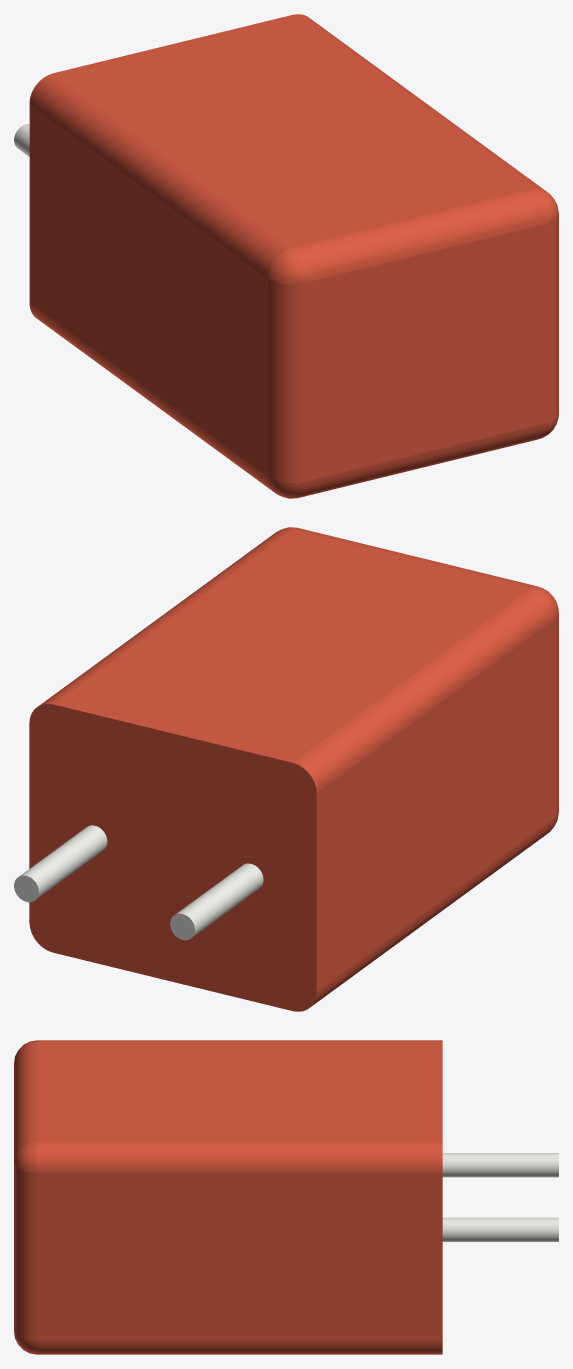
Rendered from C_Rect_L4.6mm_W3.8mm_P2.50mm_MKS02_FKP02.glb.
3 renders of one model, top to bottom at view 1: azimuth 30°, elevation 25°; view 2: azimuth 150°, elevation 25°; view 3: azimuth 270°, elevation 25°, orthographic. The views are drawn at different scales.
Parts seen in each view (by area): view 1: Shape_IndexedFaceSet.009, Shape_IndexedFaceSet.008, Shape_IndexedFaceSet, Shape_IndexedFaceSet.004, Shape_IndexedFaceSet.016, Shape_IndexedFaceSet.002, Shape_IndexedFaceSet.015, Shape_IndexedFaceSet.017, Shape_IndexedFaceSet.001, Shape_IndexedFaceSet.011, Shape_IndexedFaceSet.007; view 2: Shape_IndexedFaceSet.003, Shape_IndexedFaceSet.009, Shape_IndexedFaceSet, Shape_IndexedFaceSet.004, Shape_IndexedFaceSet.001, Shape_IndexedFaceSet.013, Shape_IndexedFaceSet.014, Shape_IndexedFaceSet.011, Shape_IndexedFaceSet.016, Shape_IndexedFaceSet.002; view 3: Shape_IndexedFaceSet.012, Shape_IndexedFaceSet.009, Shape_IndexedFaceSet.011, Shape_IndexedFaceSet.010, Shape_IndexedFaceSet.017, Shape_IndexedFaceSet.013, Shape_IndexedFaceSet.014, Shape_IndexedFaceSet.016, Shape_IndexedFaceSet.004, Shape_IndexedFaceSet.019.
Part boxes in pixels (left/top/right/bottom): Shape_IndexedFaceSet.009: left=53, top=15, right=531, bottom=247; Shape_IndexedFaceSet.008: left=305, top=224, right=545, bottom=481; Shape_IndexedFaceSet: left=29, top=104, right=268, bottom=476; Shape_IndexedFaceSet.004: left=29, top=73, right=291, bottom=278; Shape_IndexedFaceSet.016: left=292, top=189, right=545, bottom=282; Shape_IndexedFaceSet.002: left=268, top=279, right=305, bottom=482; Shape_IndexedFaceSet.015: left=299, top=423, right=545, bottom=497; Shape_IndexedFaceSet.017: left=545, top=216, right=558, bottom=422; Shape_IndexedFaceSet.001: left=29, top=303, right=273, bottom=491; Shape_IndexedFaceSet.011: left=293, top=14, right=545, bottom=190; Shape_IndexedFaceSet.007: left=268, top=248, right=305, bottom=284; Shape_IndexedFaceSet.003: left=29, top=703, right=316, bottom=1011; Shape_IndexedFaceSet.009: left=53, top=530, right=531, bottom=762; Shape_IndexedFaceSet: left=316, top=619, right=555, bottom=991; Shape_IndexedFaceSet.004: left=293, top=588, right=555, bottom=792; Shape_IndexedFaceSet.001: left=311, top=817, right=555, bottom=1006; Shape_IndexedFaceSet.013: left=176, top=863, right=263, bottom=937; Shape_IndexedFaceSet.014: left=20, top=825, right=107, bottom=899; Shape_IndexedFaceSet.011: left=39, top=529, right=291, bottom=705; Shape_IndexedFaceSet.016: left=292, top=528, right=536, bottom=587; Shape_IndexedFaceSet.002: left=555, top=614, right=558, bottom=816; Shape_IndexedFaceSet.012: left=37, top=1172, right=442, bottom=1341; Shape_IndexedFaceSet.009: left=37, top=1042, right=442, bottom=1141; Shape_IndexedFaceSet.011: left=37, top=1141, right=442, bottom=1172; Shape_IndexedFaceSet.010: left=37, top=1341, right=442, bottom=1354; Shape_IndexedFaceSet.017: left=14, top=1163, right=37, bottom=1341; Shape_IndexedFaceSet.013: left=442, top=1153, right=558, bottom=1177; Shape_IndexedFaceSet.014: left=442, top=1217, right=558, bottom=1241; Shape_IndexedFaceSet.016: left=14, top=1042, right=37, bottom=1161; Shape_IndexedFaceSet.004: left=37, top=1040, right=442, bottom=1042; Shape_IndexedFaceSet.019: left=14, top=1142, right=37, bottom=1172.
Bounding box in the file's own units: 1.81 × 1.5 × 3.5.
